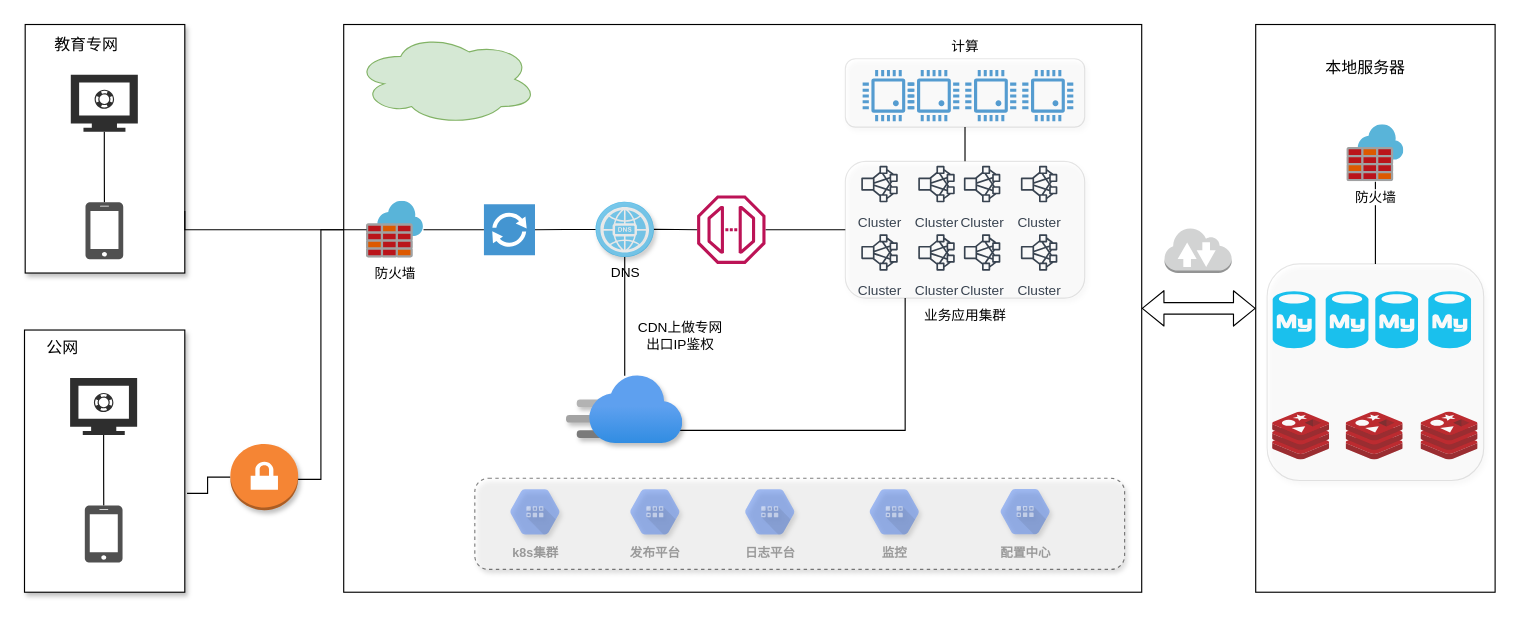
Some shapes in this 1515 by 620 pixel diagram are drawn without their labels. The shapes that lost their labels are listed below. From the top down, each one's centre as x and y in pixels, then its label:
At [446,78]: "字节云".
At [508,229]: "负载均衡".
At [731,229]: "gateway".
At [1197,249]: "专线".
At [625,410]: "CDN".
At [265,478]: "VPN".
